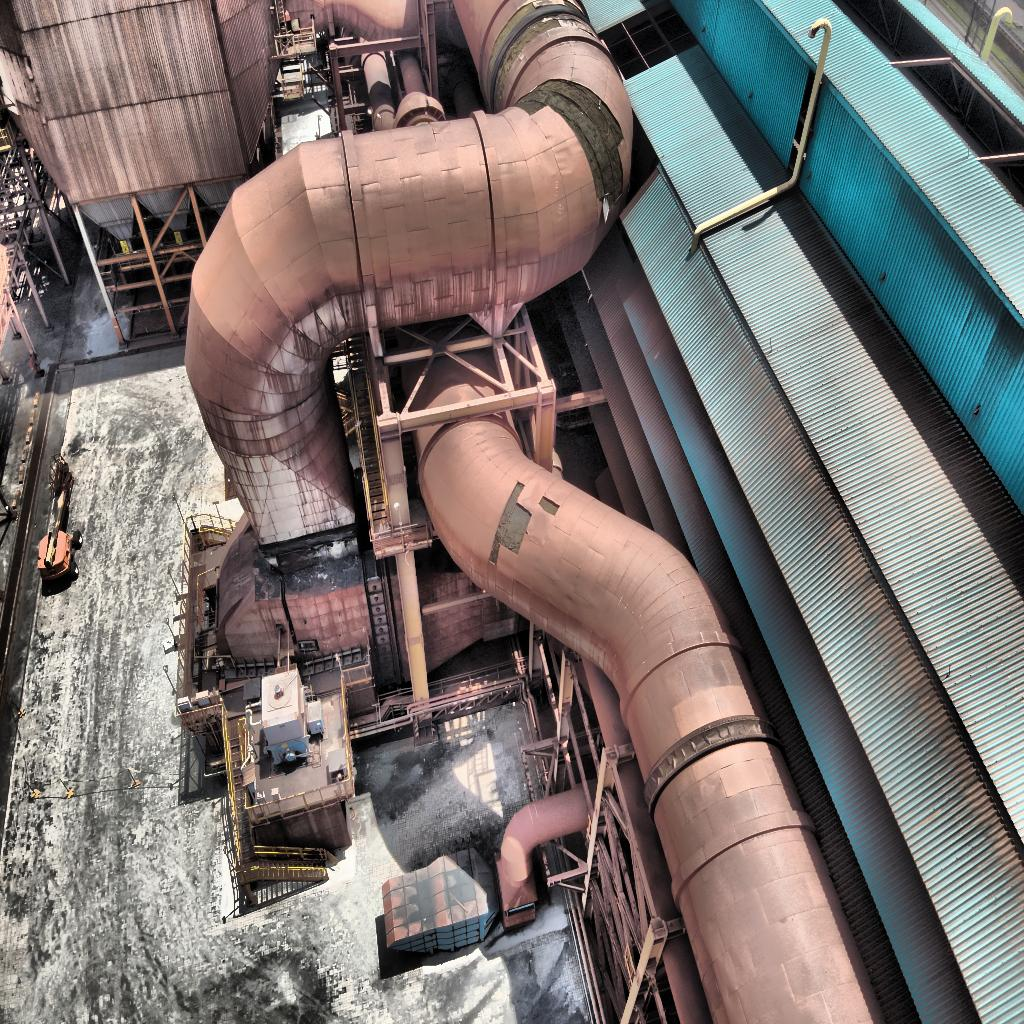Failures: (580, 116, 624, 225), (511, 78, 625, 116), (488, 479, 532, 567), (516, 0, 593, 32), (487, 21, 513, 103), (537, 494, 561, 517)
